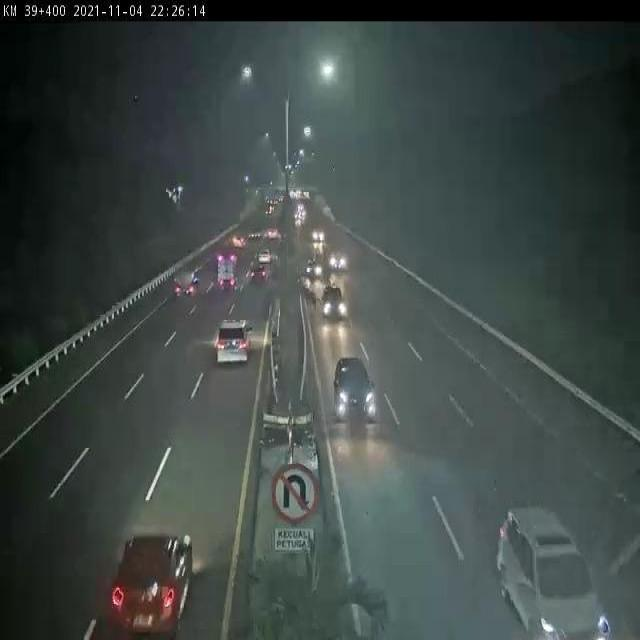car: (485, 500, 607, 636), (111, 531, 193, 624), (342, 353, 382, 419), (212, 326, 256, 370), (322, 286, 348, 318), (329, 252, 351, 275), (251, 261, 269, 284), (306, 259, 324, 277), (312, 229, 326, 252), (260, 246, 270, 266)
truck-s-: (216, 252, 241, 292), (174, 267, 198, 293)
